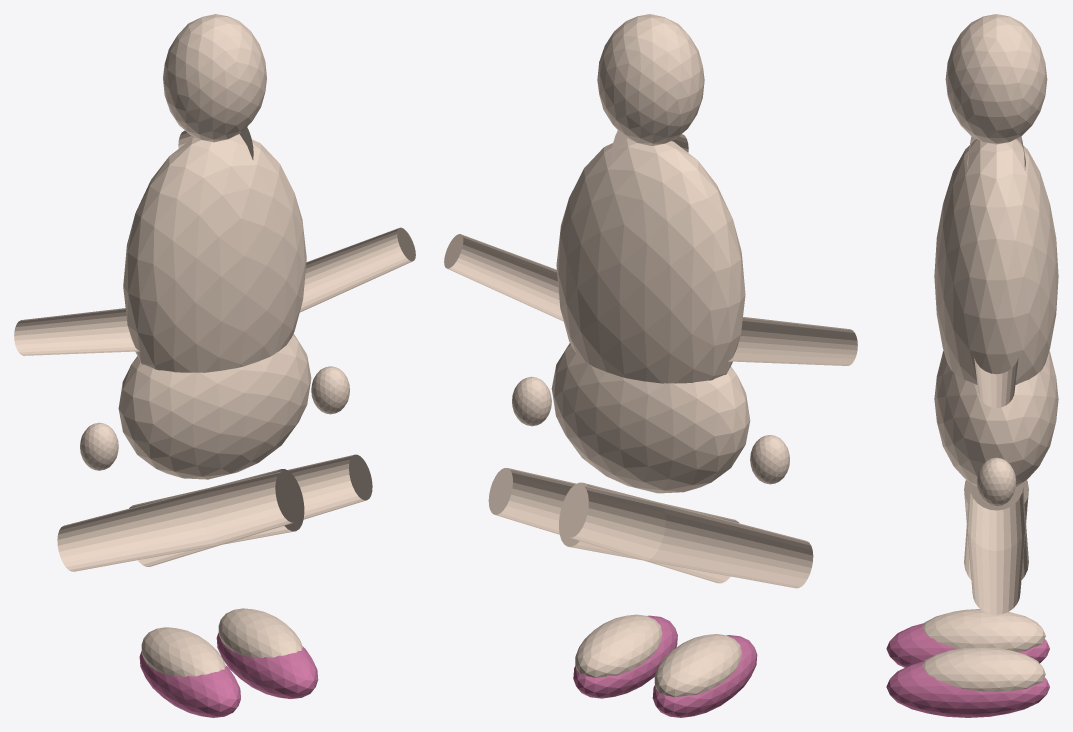
Rendered from femenino-tenis.glb.
The picture shows the model from 3 angles, left to right: view 1: azimuth 30°, elevation 25°; view 2: azimuth 150°, elevation 25°; view 3: azimuth 270°, elevation 25°; orthographic projection. The views are drawn at different scales.
Parts seen in each view (by area): view 1: Avatar0, Avatar1, Avatar3, Avatar4, Avatar8, Prenda, Avatar10, Avatar6, Avatar5, Avatar9, Avatar7, Avatar11; view 2: Avatar0, Avatar1, Avatar3, Avatar4, Avatar8, Prenda, Avatar10, Avatar6, Avatar5, Avatar9, Avatar7, Avatar11; view 3: Avatar0, Avatar3, Avatar1, Prenda, Avatar9, Avatar8, Avatar5, Avatar4, Avatar11, Avatar10.
Boxes of the visible parts, x1,y1,x2,y2 form: Avatar0: [123, 134, 306, 372]; Avatar1: [118, 333, 311, 479]; Avatar3: [163, 14, 266, 142]; Avatar4: [57, 469, 304, 571]; Avatar8: [129, 454, 372, 566]; Prenda: [139, 633, 318, 717]; Avatar10: [299, 227, 415, 312]; Avatar6: [14, 308, 139, 355]; Avatar5: [141, 627, 225, 676]; Avatar9: [218, 608, 302, 657]; Avatar7: [80, 422, 118, 470]; Avatar11: [311, 366, 349, 414]; Avatar0: [556, 137, 745, 383]; Avatar1: [551, 343, 750, 493]; Avatar3: [597, 14, 704, 145]; Avatar4: [559, 482, 813, 588]; Avatar8: [488, 468, 738, 583]; Prenda: [573, 615, 757, 717]; Avatar10: [444, 234, 563, 321]; Avatar6: [728, 317, 857, 365]; Avatar5: [654, 634, 741, 696]; Avatar9: [575, 614, 662, 677]; Avatar7: [750, 435, 789, 484]; Avatar11: [512, 376, 551, 426]; Avatar0: [934, 139, 1058, 384]; Avatar3: [945, 14, 1047, 144]; Avatar1: [934, 351, 1058, 486]; Prenda: [886, 623, 1049, 717]; Avatar9: [922, 647, 1045, 691]; Avatar8: [964, 480, 1028, 614]; Avatar5: [922, 609, 1045, 651]; Avatar4: [964, 487, 1028, 579]; Avatar11: [976, 457, 1016, 506]; Avatar10: [974, 358, 1018, 407].
Bounding box in the file's own units: 1.61 × 2.65 × 0.61.
